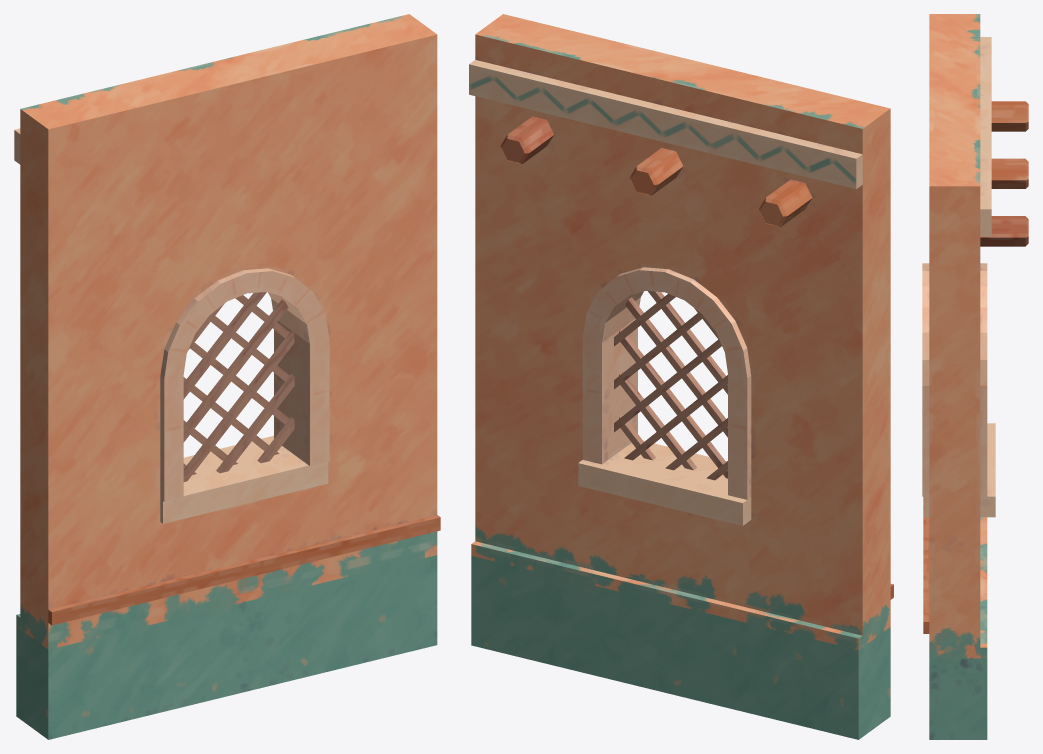
File: wall2_window_low.fbx
3 renders of one model, left to right at view 1: azimuth 30°, elevation 25°; view 2: azimuth 150°, elevation 25°; view 3: azimuth 270°, elevation 25°, orthographic. The views are drawn at different scales.
Visible parts, largest first — view 1: wall2_window; view 2: wall2_window; view 3: wall2_window.
Part boxes in pixels (x1,y1,x2,y2): wall2_window: (14,14,440,739); wall2_window: (469,14,893,739); wall2_window: (922,14,1028,739).
Bounding box in the file's own units: 8 × 12 × 2.09.
Materials: 1 (1 with a texture image).
